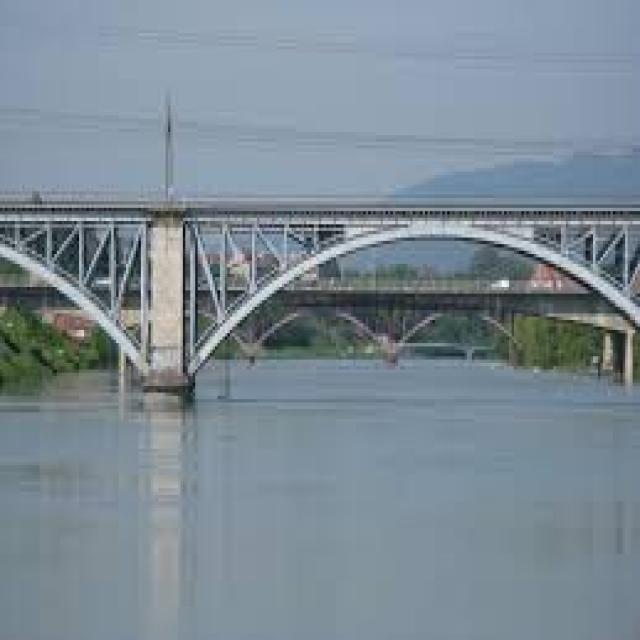Bridges: (8, 119, 640, 457)
